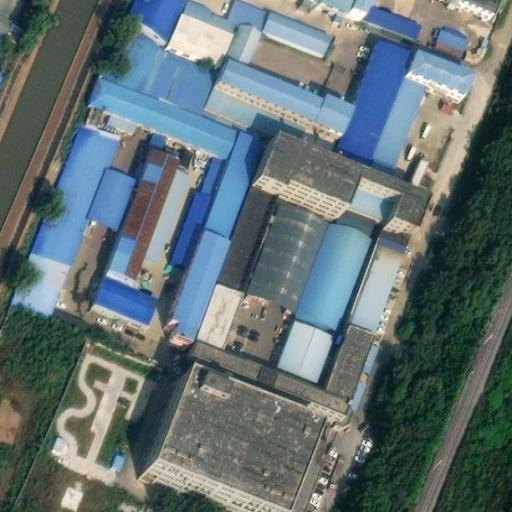building: (88, 69, 268, 230), (140, 375, 308, 512), (12, 116, 117, 308), (253, 133, 423, 230), (193, 180, 279, 342), (324, 228, 408, 390), (334, 30, 426, 168), (185, 331, 351, 404), (216, 50, 352, 127), (294, 210, 380, 327), (244, 190, 331, 304), (104, 142, 179, 272), (167, 219, 231, 337), (172, 145, 228, 258), (209, 80, 311, 136), (149, 41, 223, 109), (275, 424, 332, 512), (144, 153, 194, 253), (100, 16, 169, 87), (276, 309, 343, 380), (87, 156, 139, 222), (408, 45, 472, 92), (94, 270, 156, 316), (341, 182, 391, 228), (128, 0, 181, 34), (429, 18, 470, 61), (366, 0, 417, 32), (227, 15, 264, 59), (403, 152, 429, 186), (44, 429, 67, 454), (106, 445, 128, 471), (348, 0, 372, 14)
